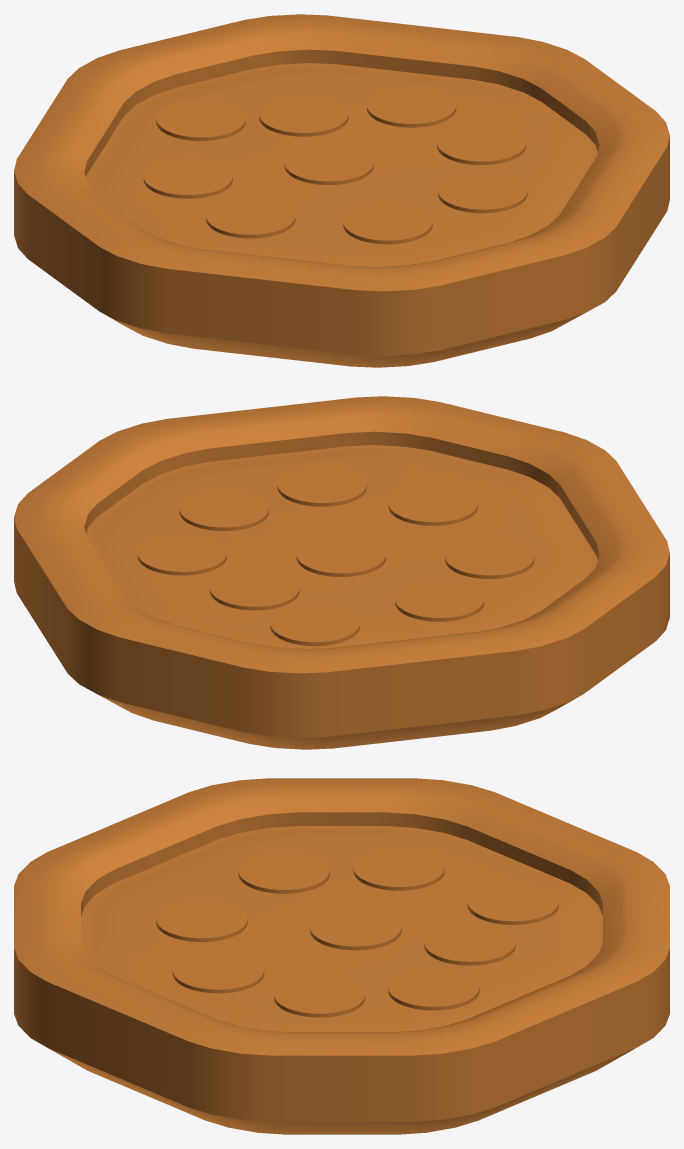
Rendered from Gold Pizza.obj.
The picture shows the model from 3 angles, top to bottom: view 1: azimuth 30°, elevation 25°; view 2: azimuth 150°, elevation 25°; view 3: azimuth 270°, elevation 25°; orthographic projection. The views are drawn at different scales.
Parts seen in each view (by area): view 1: Pepperoni_Pizza.001_Cube.018; view 2: Pepperoni_Pizza.001_Cube.018; view 3: Pepperoni_Pizza.001_Cube.018.
Boxes of the visible parts, box(x1,y1,x2,y2) form: Pepperoni_Pizza.001_Cube.018: box(14, 14, 669, 367); Pepperoni_Pizza.001_Cube.018: box(14, 396, 669, 749); Pepperoni_Pizza.001_Cube.018: box(14, 778, 669, 1134).
Size of the model in its own units: 2 by 0.4132 by 2.
